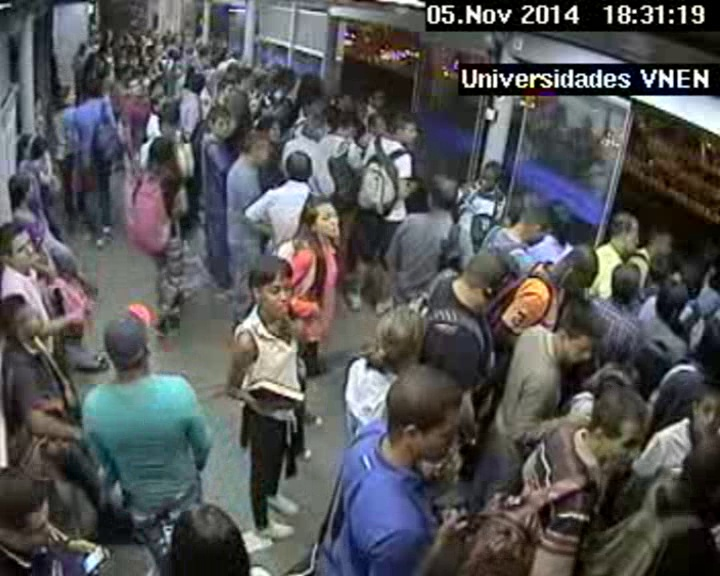person: (385, 367, 464, 465), (167, 501, 252, 576), (585, 386, 656, 470), (1, 466, 63, 558), (367, 304, 432, 371), (241, 254, 302, 324), (456, 248, 520, 312), (659, 440, 720, 506), (96, 312, 158, 375), (551, 296, 607, 365), (1, 293, 53, 346), (557, 241, 604, 292), (1, 221, 46, 273), (299, 193, 345, 241), (676, 386, 720, 433), (632, 337, 672, 382), (607, 209, 643, 257), (608, 262, 648, 304), (424, 173, 462, 212), (518, 203, 555, 242), (291, 86, 327, 124), (653, 281, 688, 320), (237, 130, 273, 167), (283, 149, 315, 186), (680, 253, 711, 286), (145, 136, 176, 168), (334, 107, 365, 139), (388, 114, 419, 145), (203, 107, 233, 139), (7, 173, 37, 205), (649, 225, 676, 258), (495, 191, 524, 221), (256, 116, 283, 146), (646, 255, 673, 284), (478, 160, 504, 189), (236, 68, 258, 93), (160, 96, 182, 120), (52, 82, 73, 106), (84, 76, 104, 100), (15, 134, 35, 156), (130, 83, 150, 104), (366, 89, 386, 110), (217, 80, 236, 102), (366, 114, 386, 134), (268, 87, 285, 107), (277, 67, 294, 87), (148, 93, 164, 112), (32, 139, 48, 158), (191, 74, 206, 91), (265, 63, 280, 80), (223, 65, 239, 80), (118, 65, 133, 80), (132, 67, 147, 81), (168, 48, 181, 62), (224, 49, 237, 62), (186, 65, 198, 77), (199, 46, 210, 58), (130, 16, 140, 27), (145, 43, 155, 53), (105, 30, 114, 41), (99, 47, 108, 58), (130, 45, 139, 55), (131, 28, 140, 38), (119, 36, 128, 45), (120, 47, 128, 56), (186, 48, 194, 57), (78, 44, 86, 52), (89, 54, 97, 62), (160, 36, 168, 44), (146, 29, 153, 36), (170, 38, 176, 44)
